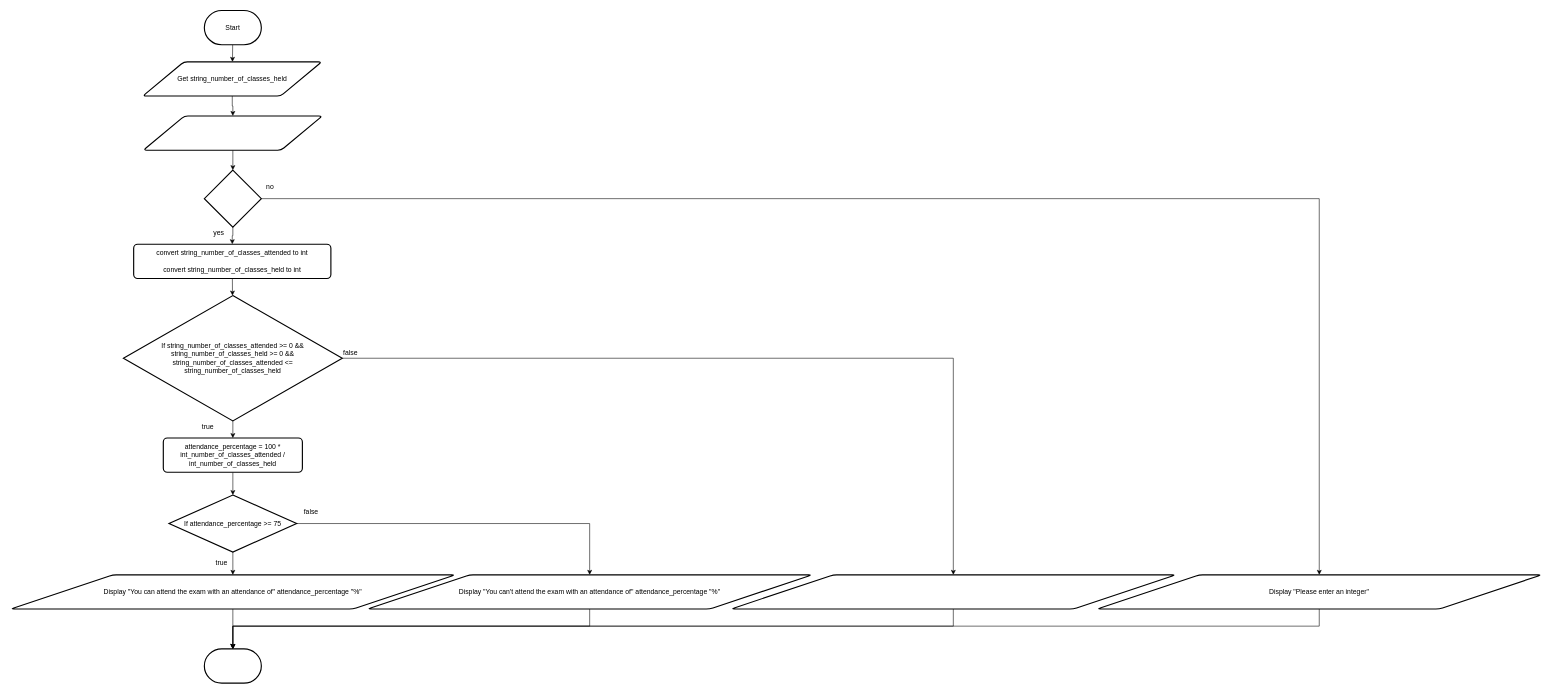
Image size: 1552x693. Some labels were removed from this diagram. The centre of each missing label's shape, as x and y in pixels:
Display "Please enter realistic values": point (953, 591)
Get string_number_of_classes_attended: point (232, 132)
Stop: point (232, 665)
Try: point (232, 198)
